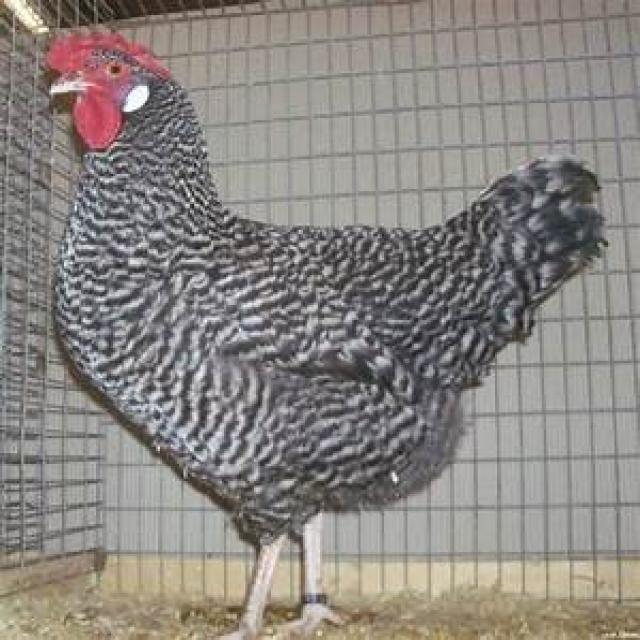hen: (43, 26, 608, 638)
